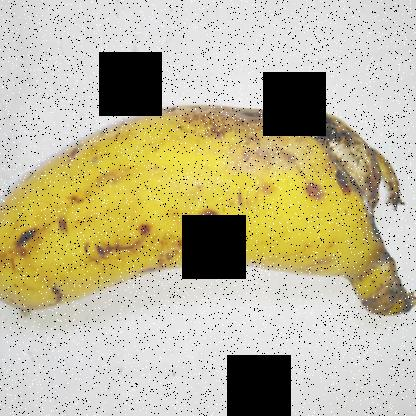ripe: (0, 97, 286, 295)
rotten: (234, 60, 399, 236)
